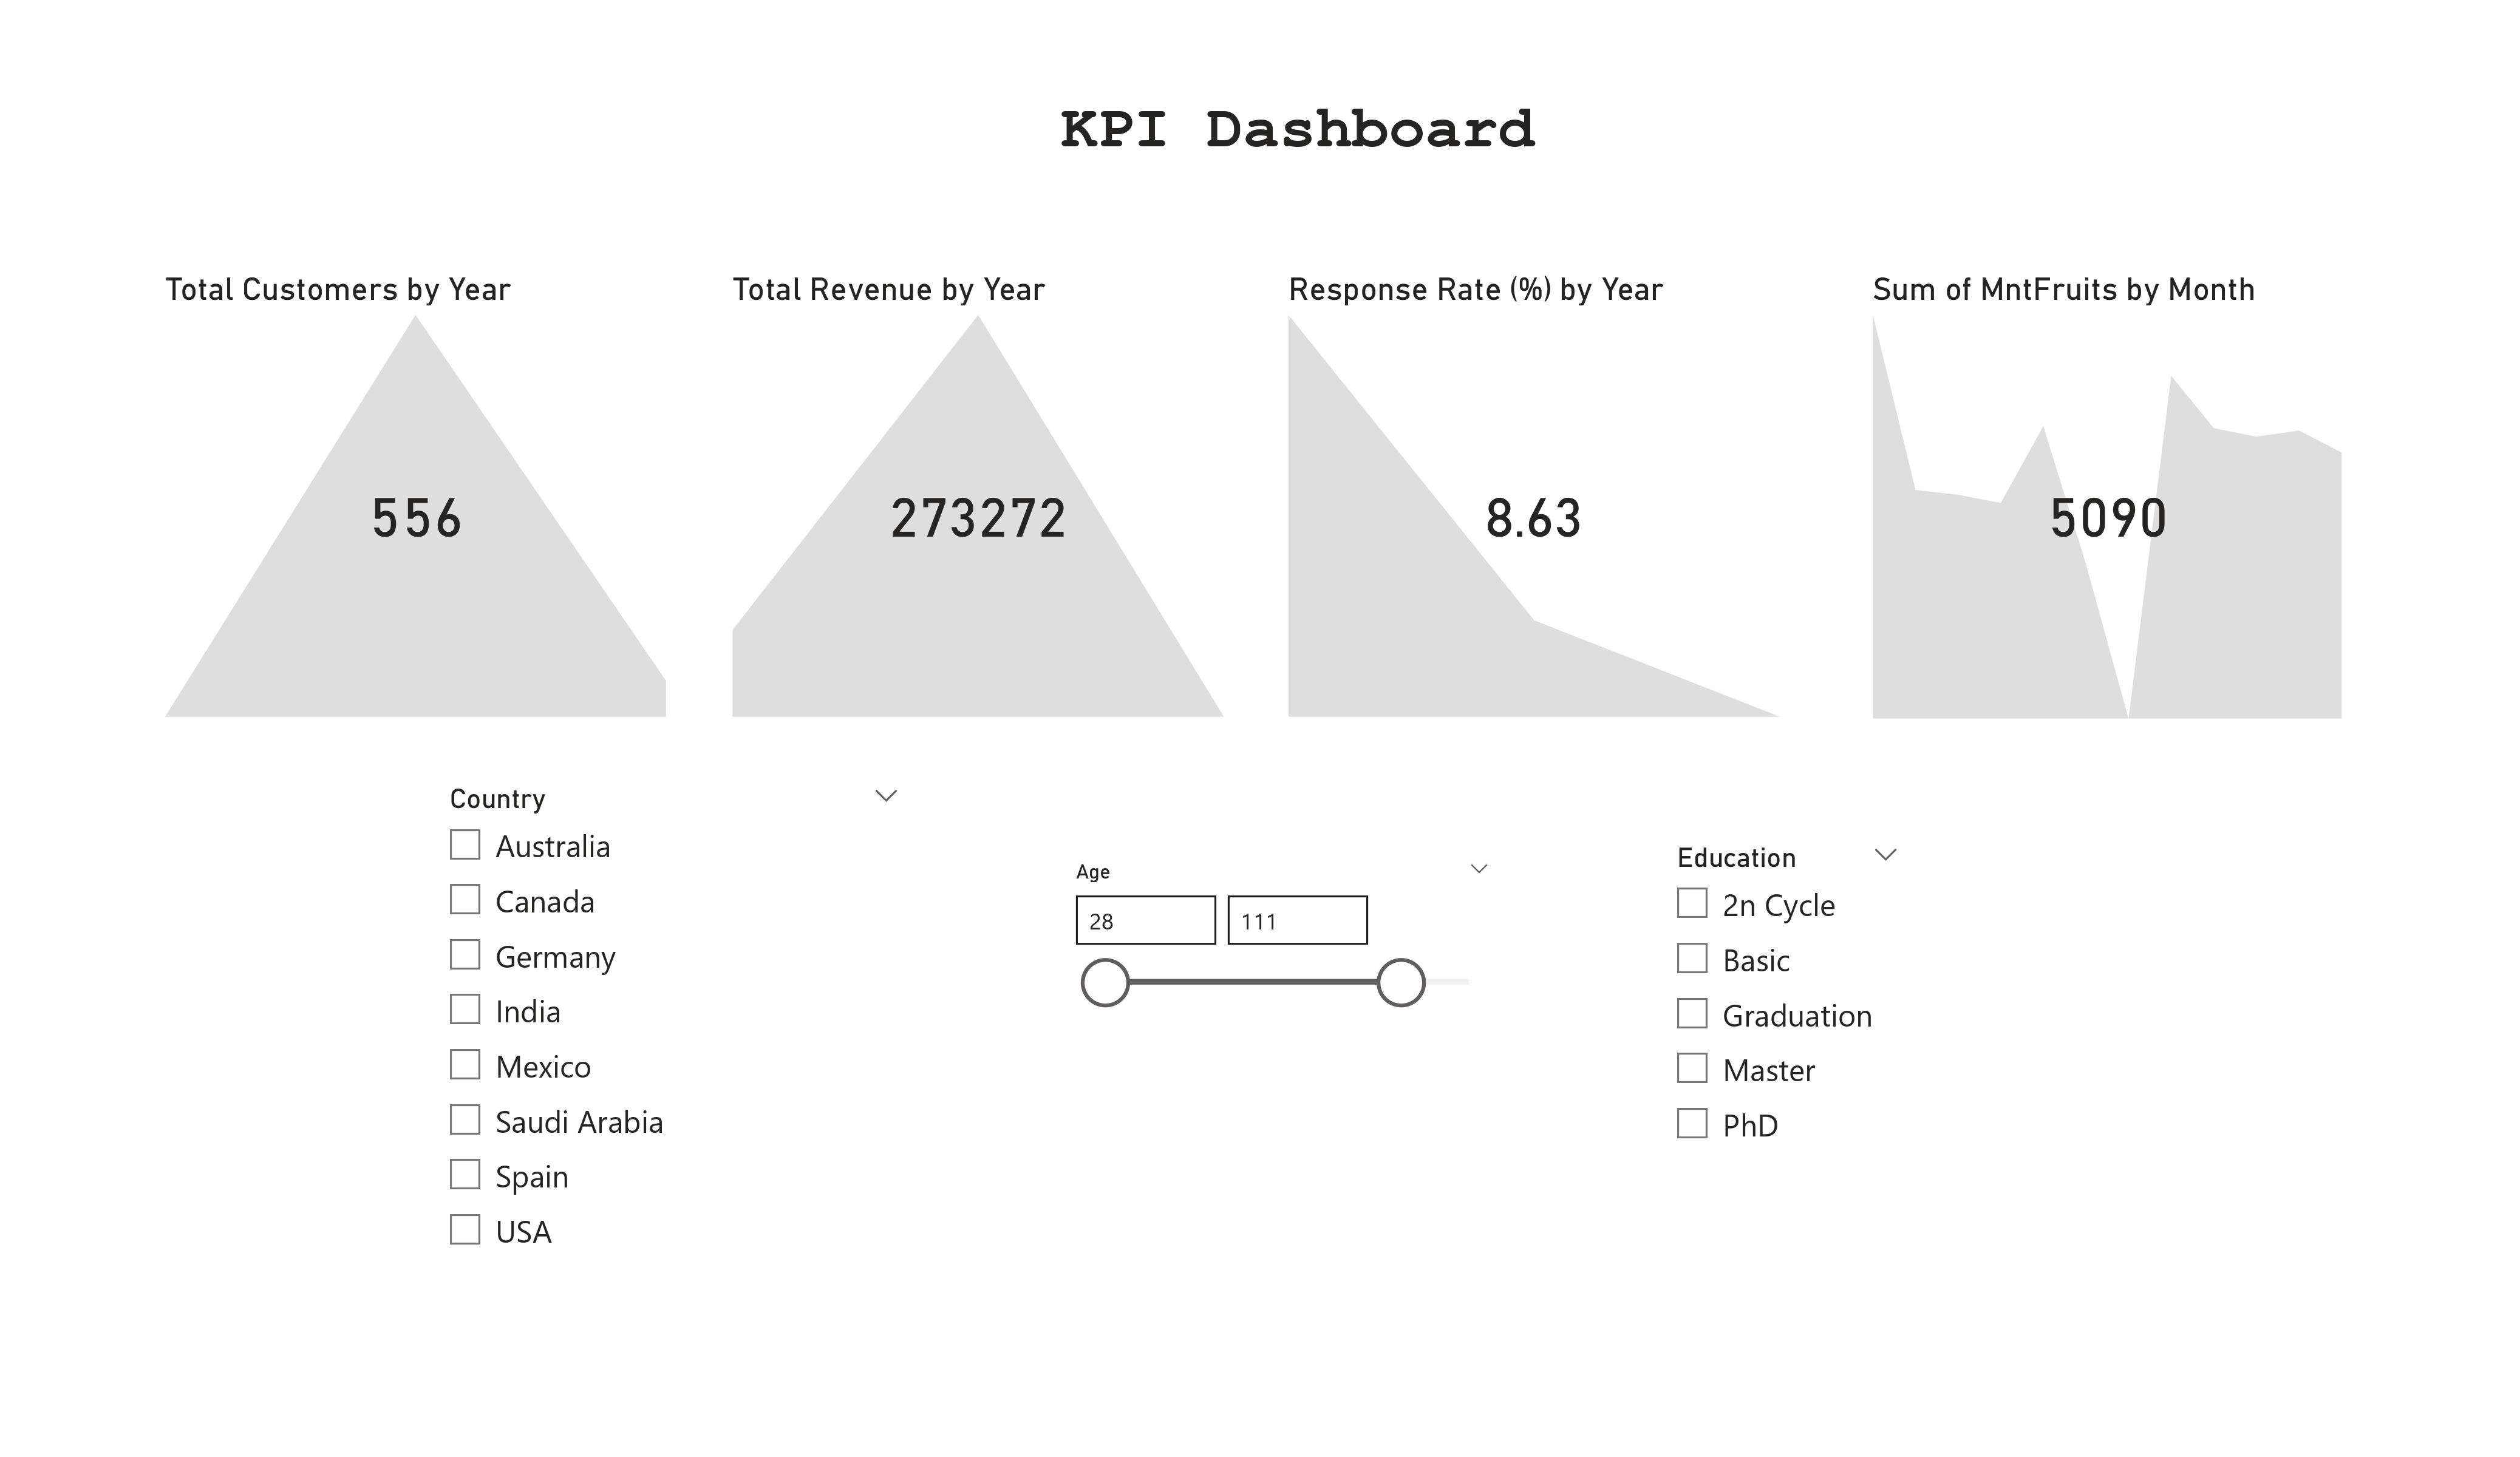

This screenshot's page, from the dashboard's own definition file:
{"tool":"powerbi","page":{"name":"KPI","canvas":[1280,720],"ordinal":0},"visuals":[{"type":"kpi","fields":{"Indicator":["marketing_cleaned.Total Customers"],"TrendLine":["marketing_cleaned.Dt_Customer.Variation.Date Hierarchy.Year"]},"box":[57.6,117.7,274.4,241.5],"z":0},{"type":"kpi","fields":{"Indicator":["marketing_cleaned.Total Revenue"],"TrendLine":["marketing_cleaned.Dt_Customer.Variation.Date Hierarchy.Year"]},"box":[356.8,117.7,269,241.5],"z":1000},{"type":"kpi","fields":{"Indicator":["marketing_cleaned.Response Rate (%)"],"TrendLine":["marketing_cleaned.Dt_Customer.Variation.Date Hierarchy.Year"]},"box":[650.4,117.7,269,241.5],"z":2000},{"type":"slicer","fields":{"Values":["marketing_cleaned.Country"]},"box":[200.3,383.9,262.1,297.8],"z":3000},{"type":"slicer","fields":{"Values":["marketing_cleaned.Age"]},"box":[529.7,423.7,242.9,104.3],"z":4000},{"type":"slicer","fields":{"Values":["marketing_cleaned.Education"]},"box":[846.8,414.8,142.6,204.5],"z":5000},{"type":"textbox","box":[529.7,20.6,274.4,61.7],"z":6000},{"type":"kpi","fields":{"TrendLine":["marketing_cleaned.Dt_Customer.Variation.Date Hierarchy.Month"],"Indicator":["Sum(marketing_cleaned.MntFruits)"]},"box":[957.7,118.1,257.8,241.9],"z":7000}]}

Visuals, with their boxes in screenshot pixels (x1, y1, x2, y2):
kpi - marketing_cleaned.Total Customers x marketing_cleaned.Dt_Customer.Variation.Date Hierarchy.Year: pyautogui.locateOnScreen(155, 269, 675, 727)
kpi - marketing_cleaned.Total Revenue x marketing_cleaned.Dt_Customer.Variation.Date Hierarchy.Year: pyautogui.locateOnScreen(723, 269, 1233, 727)
kpi - marketing_cleaned.Response Rate (%) x marketing_cleaned.Dt_Customer.Variation.Date Hierarchy.Year: pyautogui.locateOnScreen(1280, 269, 1790, 727)
slicer - marketing_cleaned.Country: pyautogui.locateOnScreen(426, 774, 923, 1339)
slicer - marketing_cleaned.Age: pyautogui.locateOnScreen(1051, 849, 1511, 1047)
slicer - marketing_cleaned.Education: pyautogui.locateOnScreen(1652, 832, 1923, 1220)
textbox: pyautogui.locateOnScreen(1051, 84, 1572, 202)
kpi - marketing_cleaned.Dt_Customer.Variation.Date Hierarchy.Month x Sum(marketing_cleaned.MntFruits): pyautogui.locateOnScreen(1863, 270, 2352, 728)
